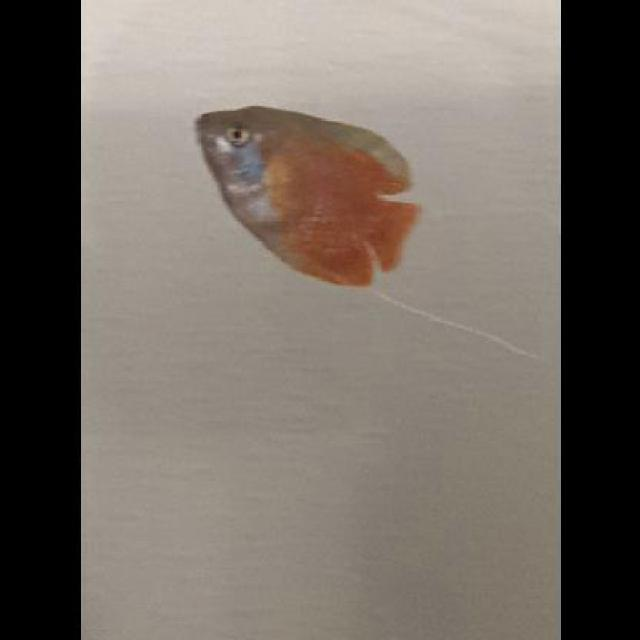Gourami: (192, 103, 414, 294)
